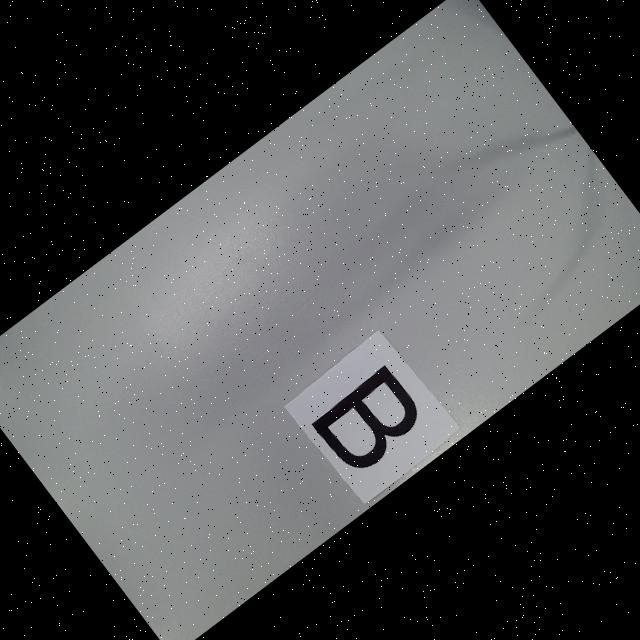FAKE: (310, 363, 430, 480)
